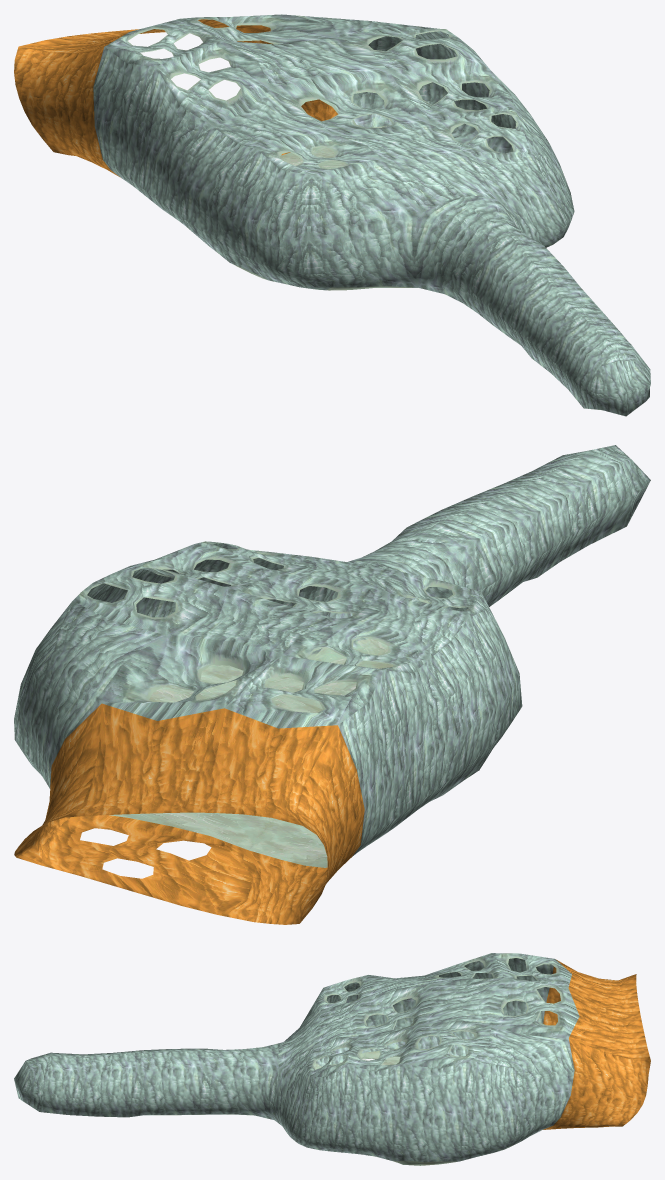
File: TROLLHOLE02_PS-UPPERCAVE.fbx
3 renders of one model, top to bottom at view 1: azimuth 30°, elevation 25°; view 2: azimuth 150°, elevation 25°; view 3: azimuth 270°, elevation 25°, orthographic. The views are drawn at different scales.
Visible parts, largest first — view 1: TROLLHOLE02_PS-UPPERCAVE; view 2: TROLLHOLE02_PS-UPPERCAVE; view 3: TROLLHOLE02_PS-UPPERCAVE.
Part boxes in pixels (x1=…): TROLLHOLE02_PS-UPPERCAVE: x1=14, y1=14, x2=650, y2=416; TROLLHOLE02_PS-UPPERCAVE: x1=14, y1=445, x2=650, y2=924; TROLLHOLE02_PS-UPPERCAVE: x1=14, y1=953, x2=650, y2=1165.
Size of the model in its own units: 173132 by 68191 by 367820.
Materials: 12 (12 with a texture image).
